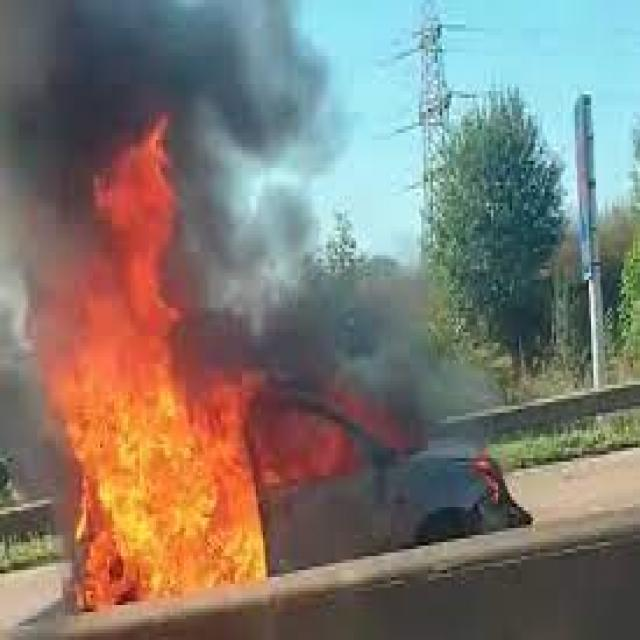fire: (51, 126, 277, 605)
smoke: (2, 7, 486, 430)
